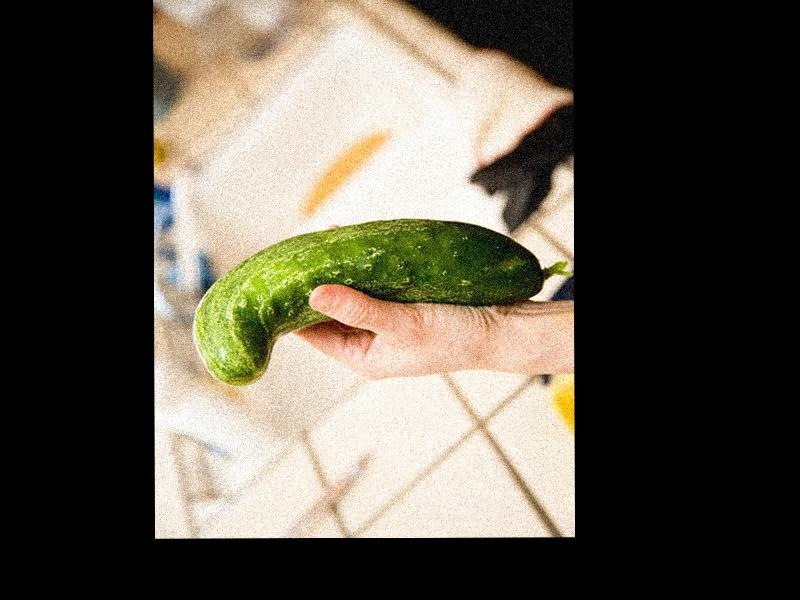Cucumber: (192, 217, 568, 385)
